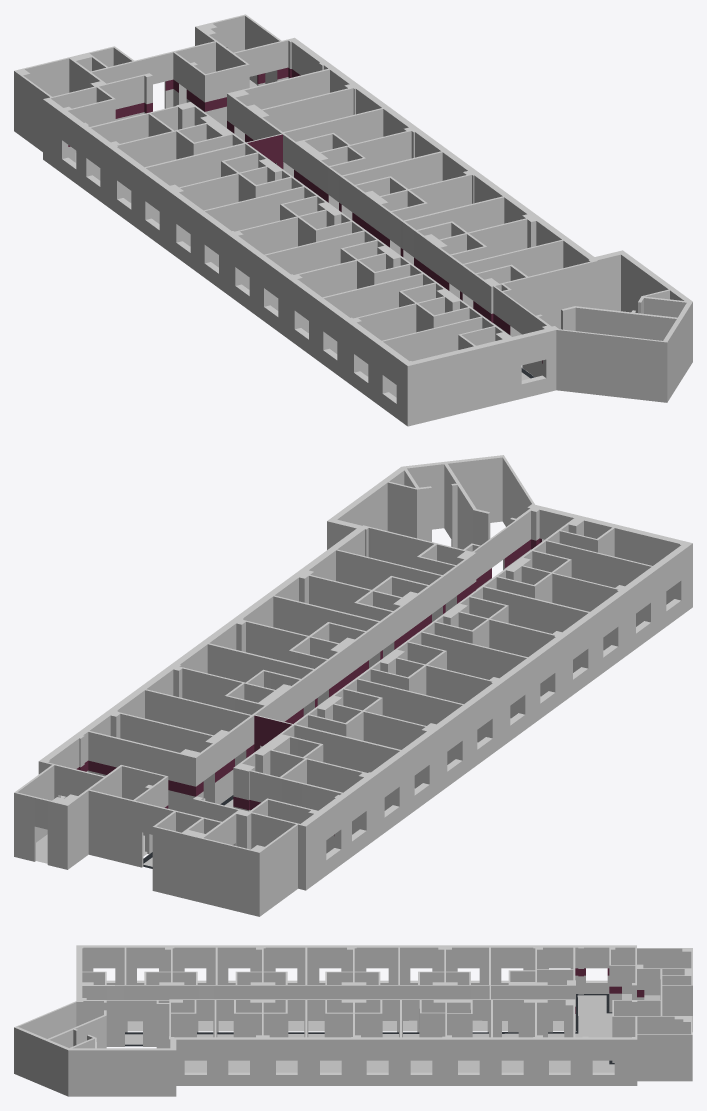
Rendered from Palata2_5thFloor.fbx.
3 renders of one model, top to bottom at view 1: azimuth 30°, elevation 25°; view 2: azimuth 150°, elevation 25°; view 3: azimuth 270°, elevation 25°, orthographic. The views are drawn at different scales.
Visible parts, largest first — view 1: Plane; view 2: Plane; view 3: Plane.
Part boxes in pixels (box(x1,y1,x2,y2)): Plane: box(14, 14, 692, 426); Plane: box(14, 455, 692, 916); Plane: box(14, 945, 692, 1096).
Bounding box in the file's own units: 2035 × 420 × 5561.
